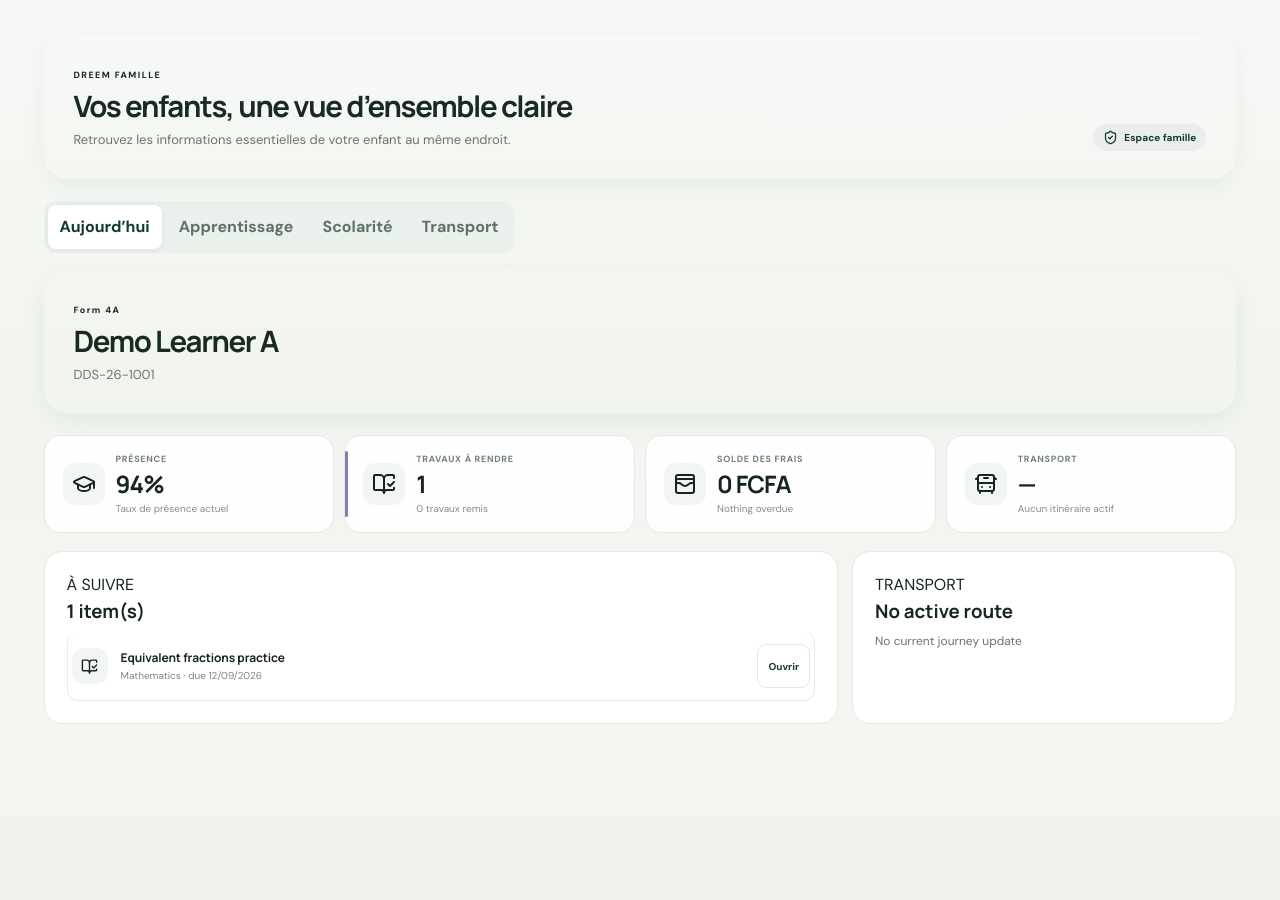
Test case: Family app › uses the shared French language context for guardian navigation
expect the text "DREEM FAMILLE" is shown: met, box top-left (74, 69), bottom-right (161, 81)
expect the button "Aujourd’hui" is shown: met, box top-left (48, 204), bottom-right (162, 248)
Click the button "Scolarité" at (358, 226), box top-left (310, 204), bottom-right (405, 248)
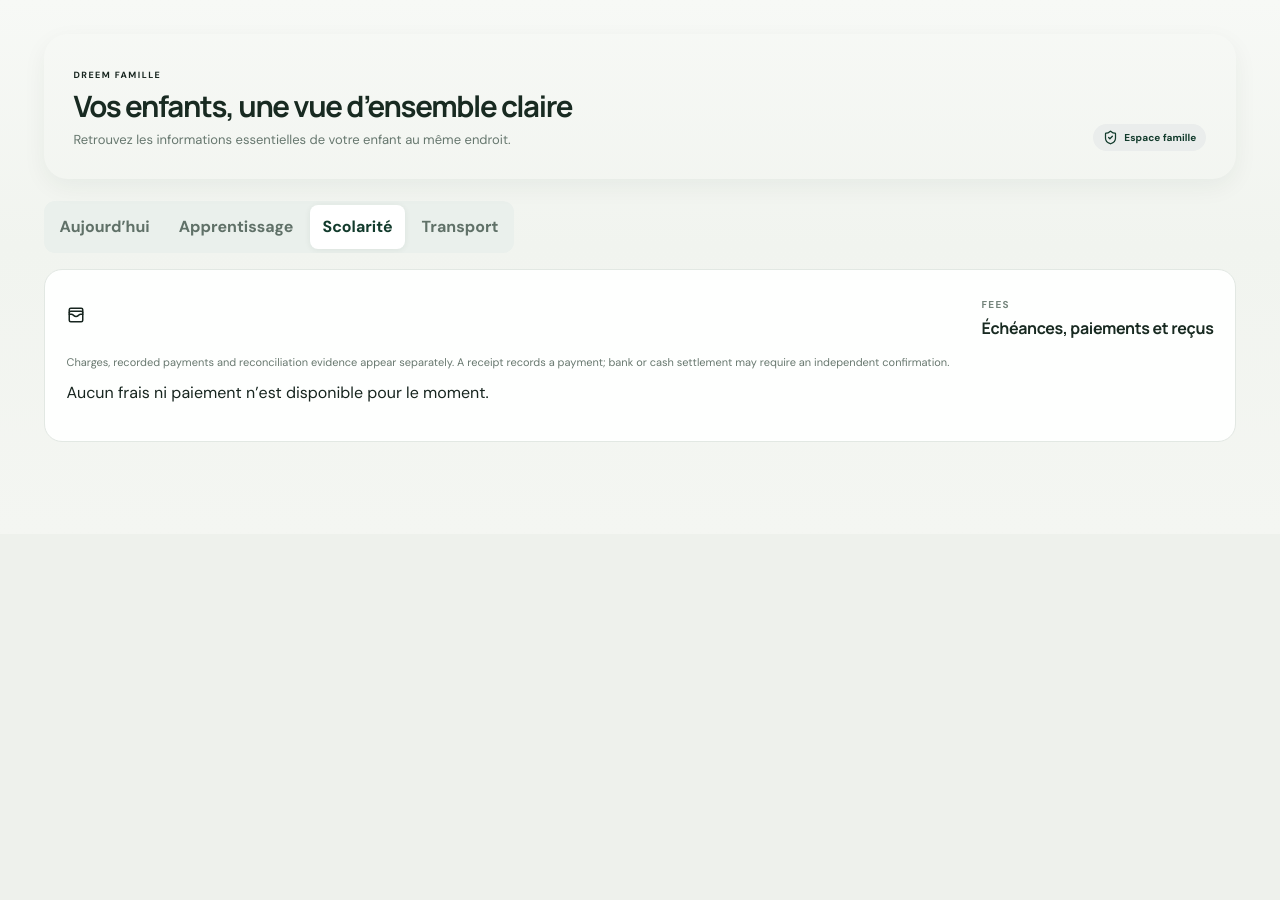
expect the heading "Échéances, paiements et reçus" is shown: met, box top-left (981, 316), bottom-right (1214, 338)
